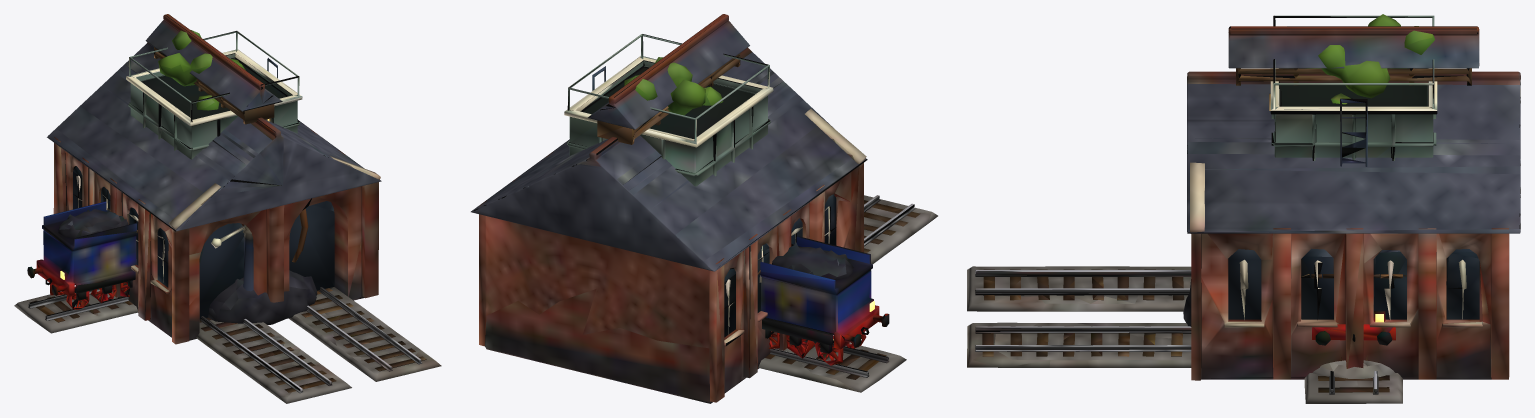
File: industrial_decor_railyard.glb
The picture shows the model from 3 angles, left to right: view 1: azimuth 30°, elevation 25°; view 2: azimuth 150°, elevation 25°; view 3: azimuth 270°, elevation 25°; orthographic projection. The views are drawn at different scales.
Visible parts, largest first — view 1: EngineShed, Loco, WaterTower, Staithe, Tree_A; view 2: EngineShed, Loco, WaterTower, Tree_A; view 3: EngineShed, WaterTower, Loco, Tree_A, Buffer, Staithe.
Boxes of the visible parts, bbox=[...] form: EngineShed: bbox=[47, 14, 441, 403]; Loco: bbox=[14, 201, 138, 333]; WaterTower: bbox=[126, 30, 308, 291]; Staithe: bbox=[107, 208, 317, 324]; Tree_A: bbox=[158, 30, 245, 110]; EngineShed: bbox=[471, 14, 937, 403]; Loco: bbox=[758, 236, 906, 392]; WaterTower: bbox=[564, 34, 773, 186]; Tree_A: bbox=[624, 57, 723, 115]; EngineShed: bbox=[967, 26, 1520, 380]; WaterTower: bbox=[1269, 15, 1437, 166]; Loco: bbox=[1304, 311, 1402, 403]; Tree_A: bbox=[1306, 14, 1434, 104]; Buffer: bbox=[1312, 360, 1394, 378]; Staithe: bbox=[1183, 274, 1406, 360].
Size of the model in its own units: 3.68 by 2.64 by 4.32.
Materials: 2 (1 with a texture image).
